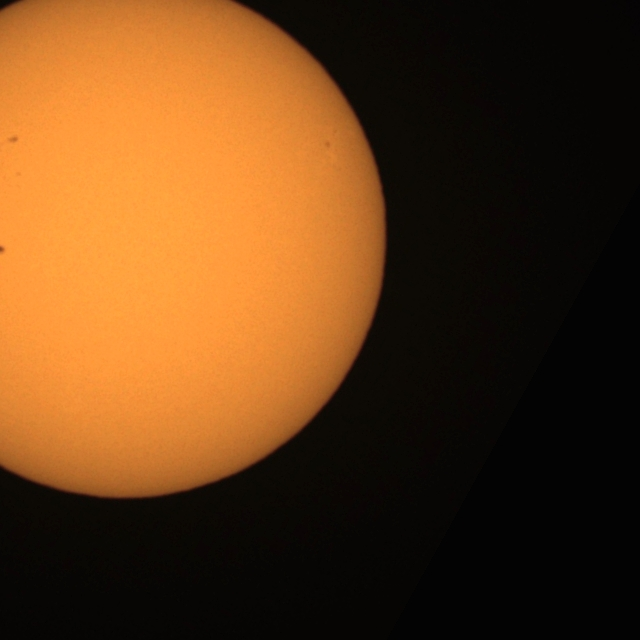sunspot: (5, 134, 19, 145), (0, 244, 6, 256), (332, 129, 338, 135)
